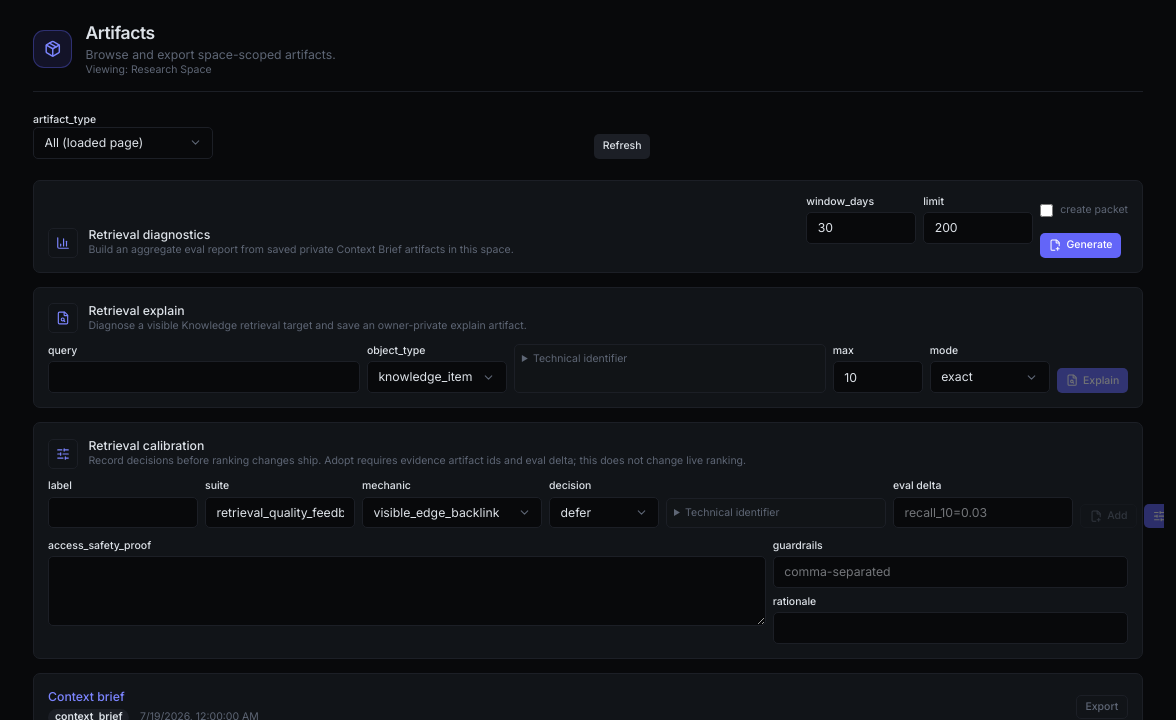
Test case: ArtifactsPage › filters the list to the generated report type, writes it to the URL, and ignores the stale unfiltered reload
Check: the link "Context brief" is shown, box [48,688,125,704]
Click the button "Generate".
click(1081, 245)  # box [1040,233,1121,258]
(page scrolled)
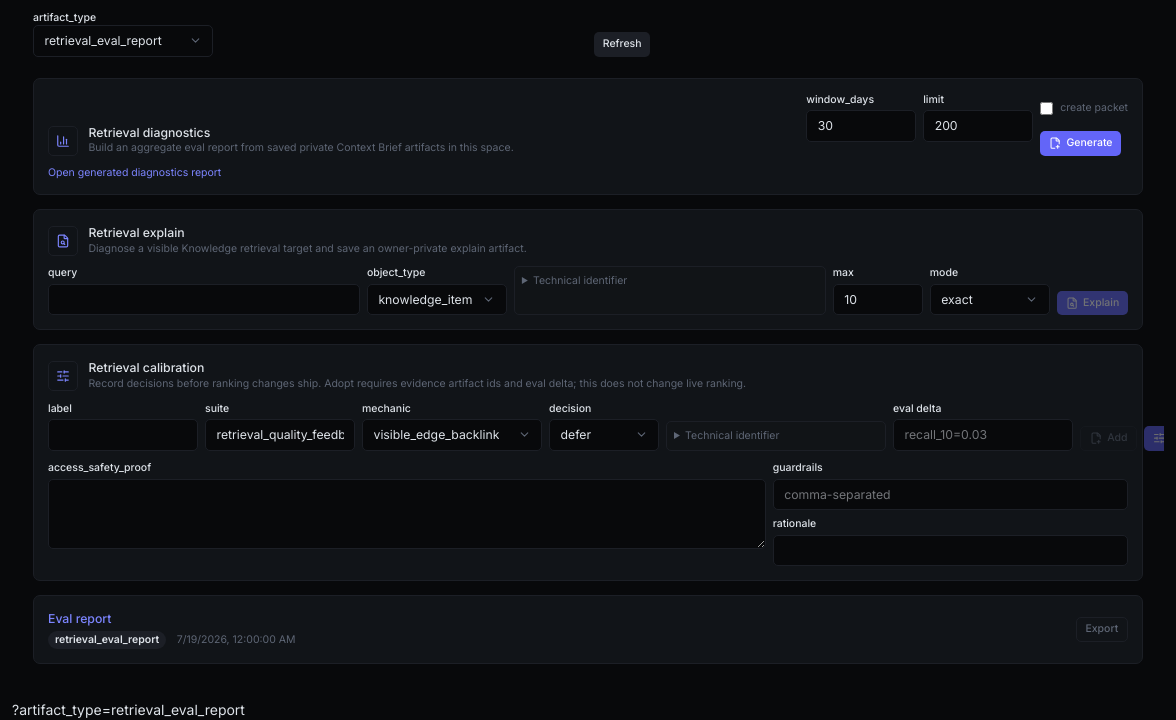
Check: the text with test id "location" shows "artifact_type=retrieval_eval_report", box [12,700,245,718]
Check: the link "Eval report" is shown, box [48,611,111,626]
